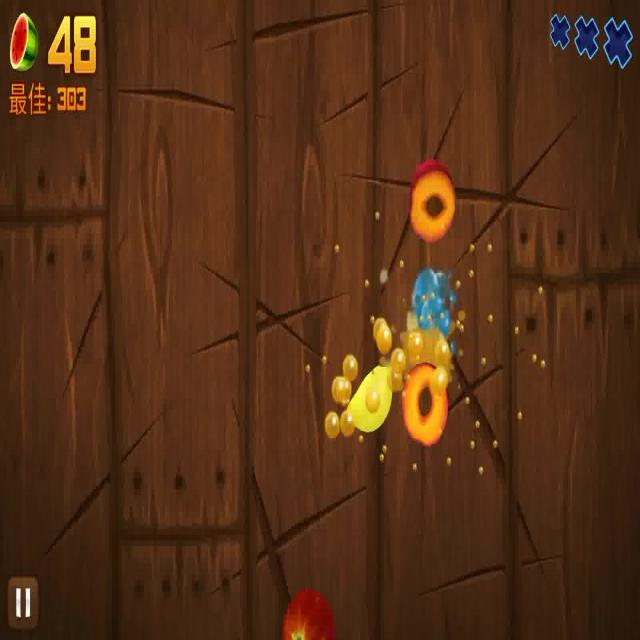fruit: (402, 359, 451, 447), (410, 157, 456, 244), (346, 365, 392, 429), (281, 589, 338, 640)
